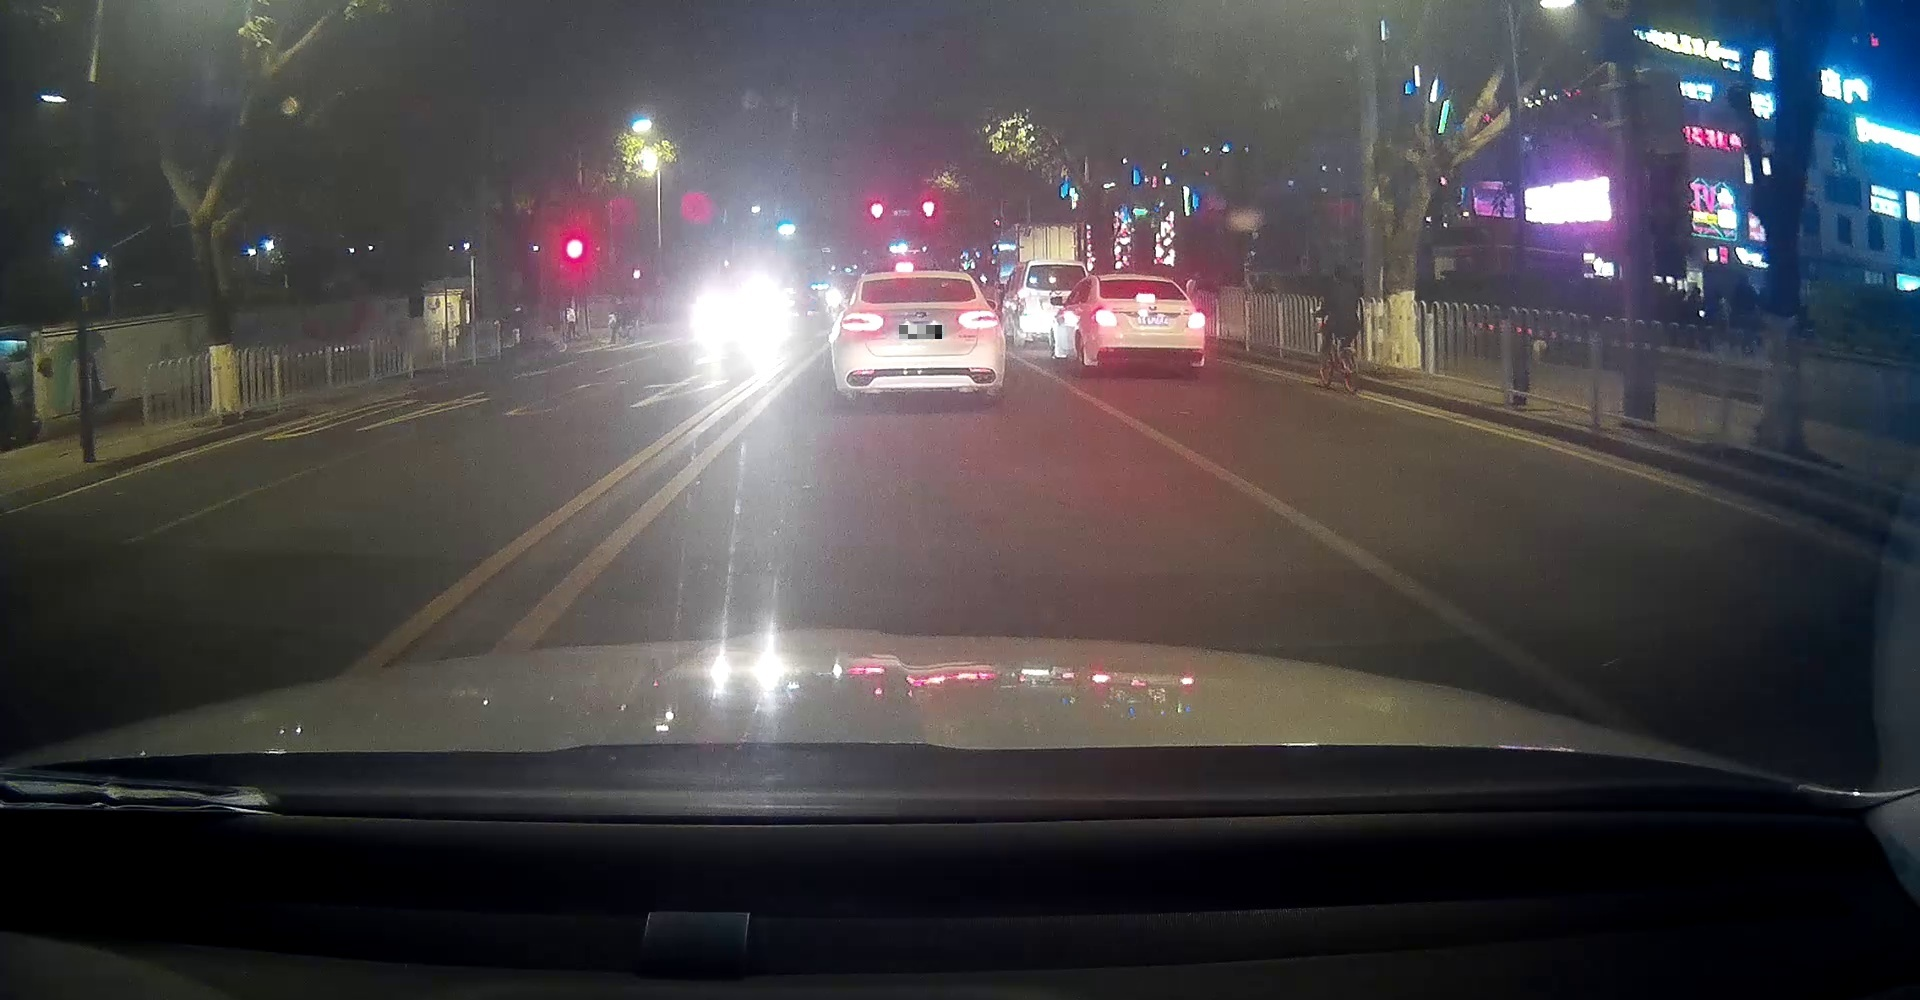L_light: (841, 312, 884, 332), (1091, 307, 1117, 327)
R_light: (957, 311, 999, 327), (1185, 308, 1205, 327)
T_light: (1137, 293, 1156, 301), (905, 277, 927, 283)
night-brake: (1091, 273, 1206, 379)
night-no: (841, 272, 1001, 405)
plate_1: (899, 325, 942, 339)
